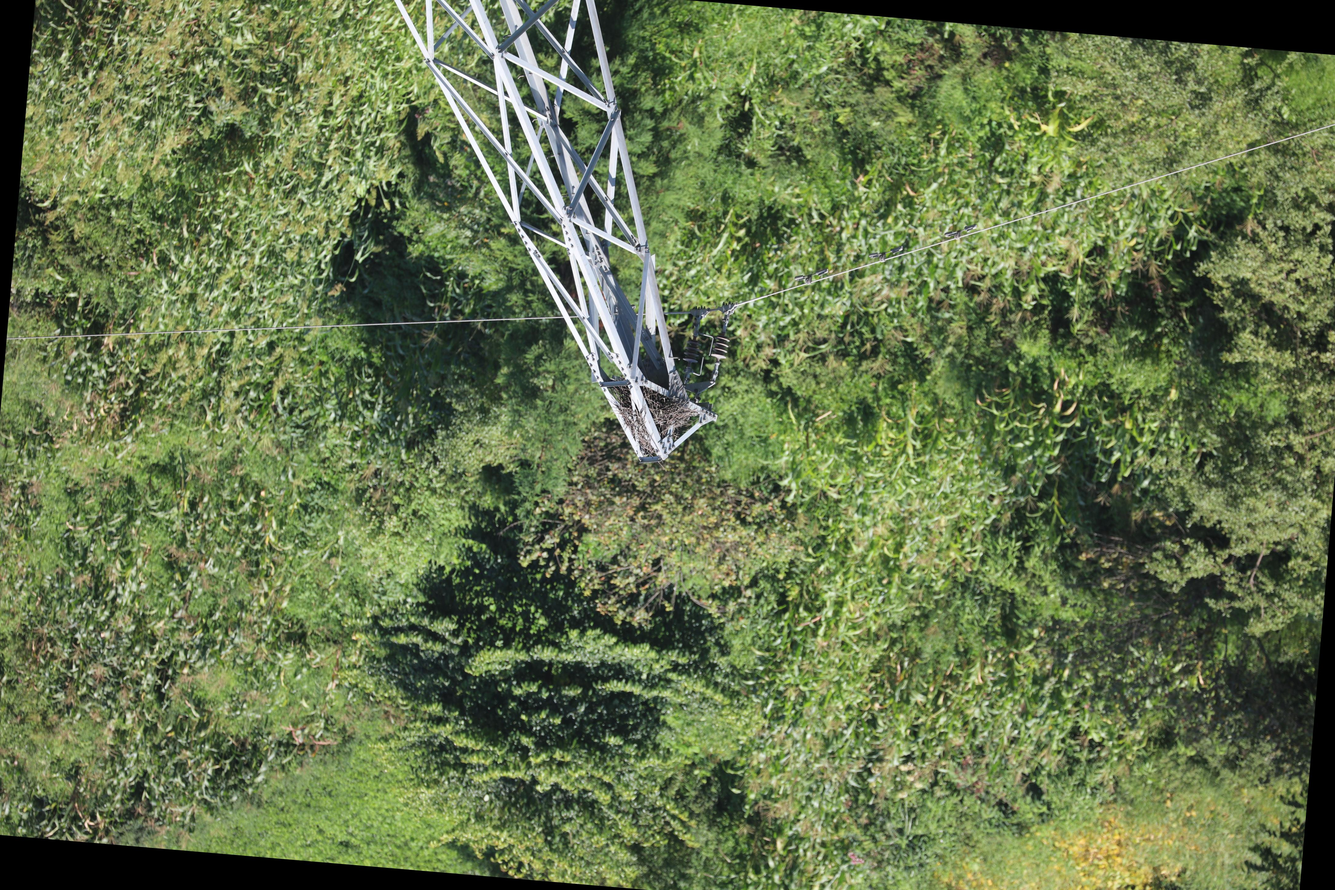damper: (791, 263, 831, 289), (866, 241, 905, 266), (942, 219, 979, 244)
